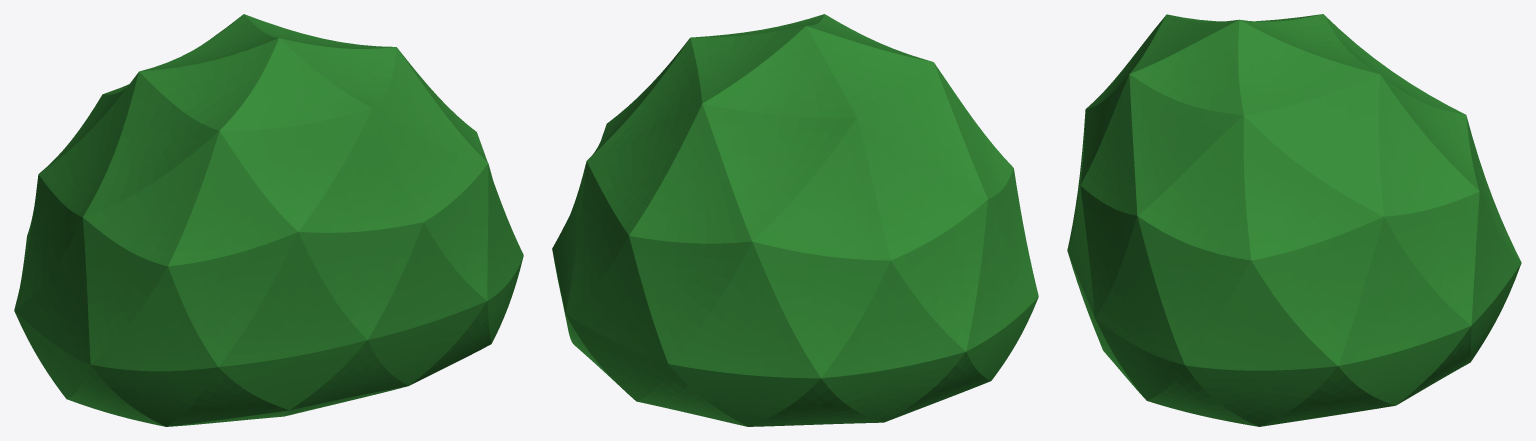
The model's file is bush.fbx.
The picture shows the model from 3 angles, left to right: view 1: azimuth 30°, elevation 25°; view 2: azimuth 150°, elevation 25°; view 3: azimuth 270°, elevation 25°; orthographic projection. The views are drawn at different scales.
Visible parts, largest first — view 1: Icosphere; view 2: Icosphere; view 3: Icosphere.
Boxes of the visible parts, x1=… form: Icosphere: x1=14, y1=14, x2=523, y2=426; Icosphere: x1=552, y1=14, x2=1038, y2=426; Icosphere: x1=1067, y1=14, x2=1521, y2=426.
Size of the model in its own units: 469 by 367 by 437.
